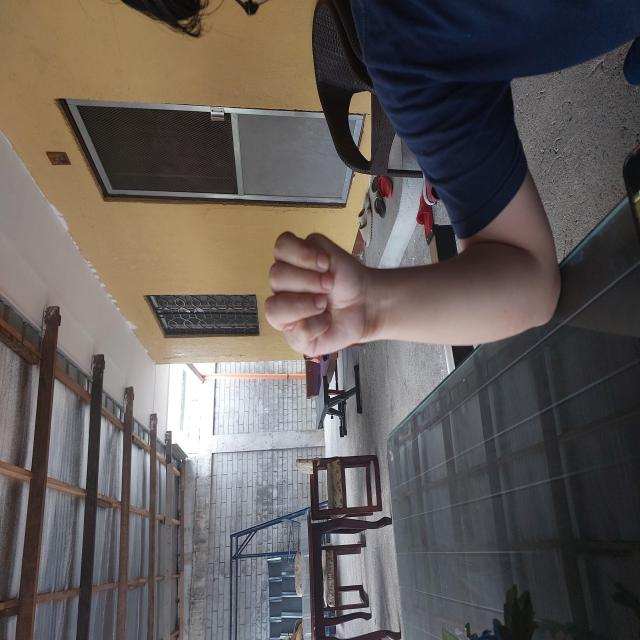M: (262, 208, 390, 394)
